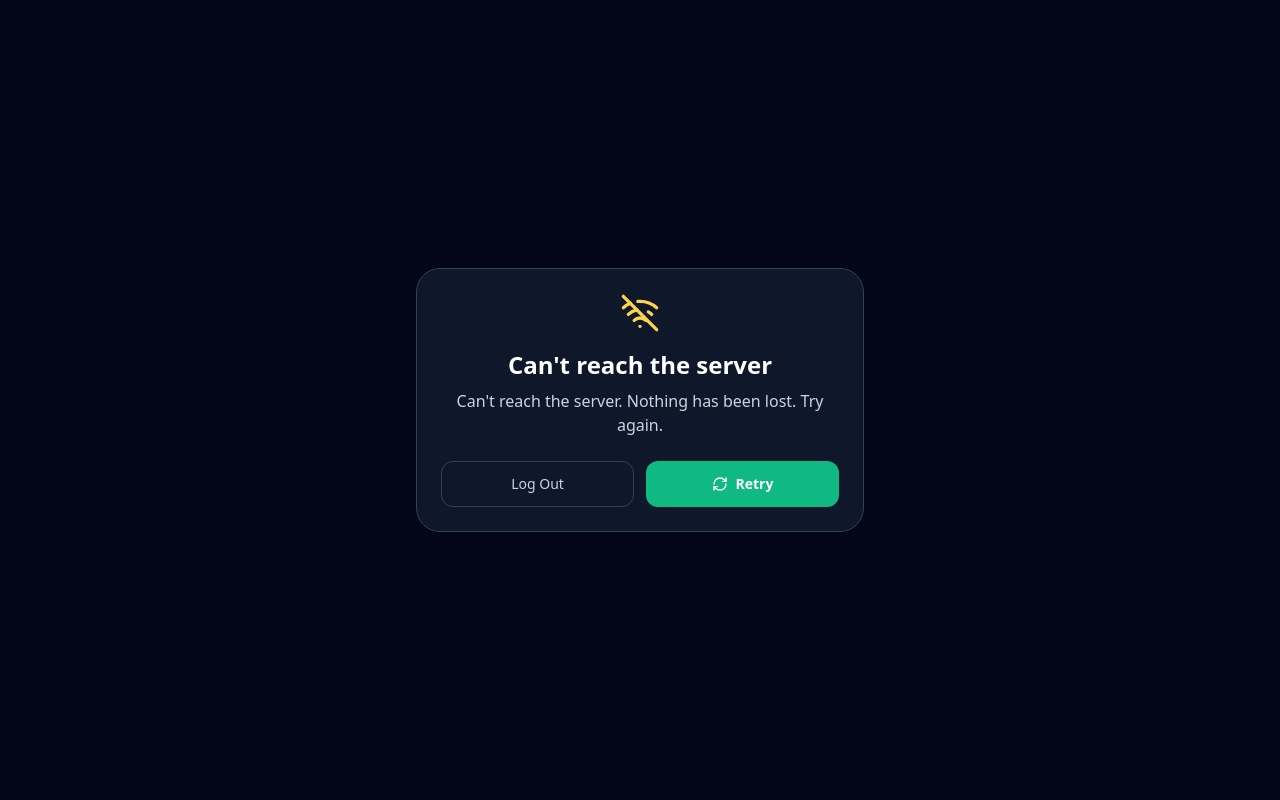
Scenario: POS shift lookup › doesn't redirect on a network error, and Retry loads the shift
Check: the heading "Can't reach the server" is shown, box x1=508 y1=348 x2=772 y2=381
Check: the text "Can't reach the server. Nothing has been lost. Try again." is shown, box x1=441 y1=389 x2=839 y2=437
Click the button "Retry" at (742, 484), box x1=646 y1=461 x2=839 y2=507
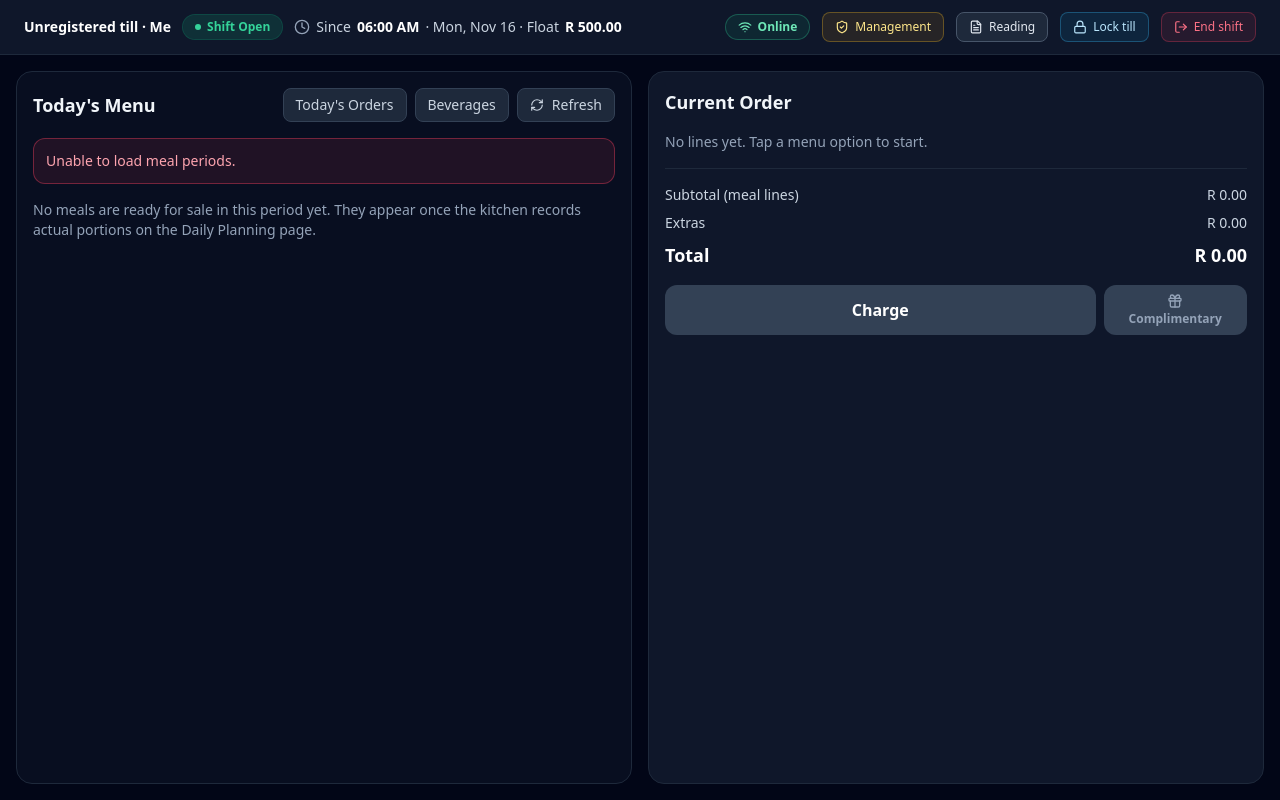
Check: the text "Shift Open" is shown, box x1=183 y1=15 x2=282 y2=39
